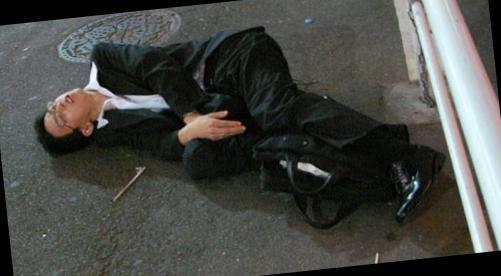Drunk: (41, 89, 90, 133)
